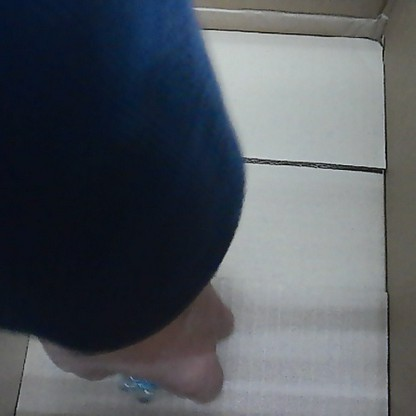bluefish: (110, 368, 165, 407)
